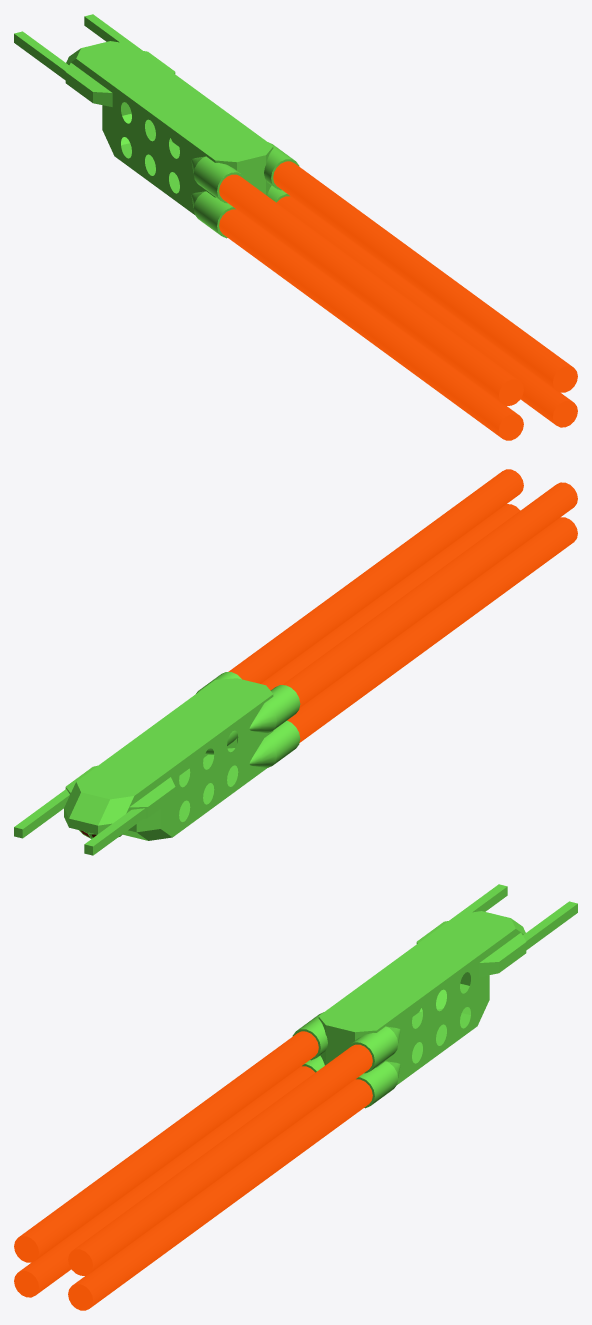
Rendered from Boss A.glb.
3 views of the same model, one above another, from view 1: azimuth 30°, elevation 25°; view 2: azimuth 150°, elevation 25°; view 3: azimuth 330°, elevation 25° (orthographic).
Parts seen in each view (by area): view 1: Cylinder 010, Origin Boss A, Cylinder 009, Cube 022; view 2: Cylinder 010, Origin Boss A, Cylinder 009, Cube 022; view 3: Cylinder 010, Origin Boss A, Cylinder 009, Cube 022.
Part boxes in pixels (x1,y1,x2,y2): Cylinder 010: [219, 161, 577, 440]; Origin Boss A: [66, 41, 273, 214]; Cylinder 009: [191, 142, 299, 238]; Cube 022: [14, 14, 175, 106]; Cylinder 010: [228, 469, 577, 742]; Origin Boss A: [64, 678, 273, 840]; Cylinder 009: [196, 672, 300, 767]; Cube 022: [14, 765, 175, 855]; Cylinder 010: [14, 1031, 372, 1310]; Origin Boss A: [318, 911, 525, 1084]; Cylinder 009: [292, 1012, 400, 1108]; Cube 022: [416, 884, 577, 976].
Bounding box in the file's own units: 501 × 400 × 5051.
